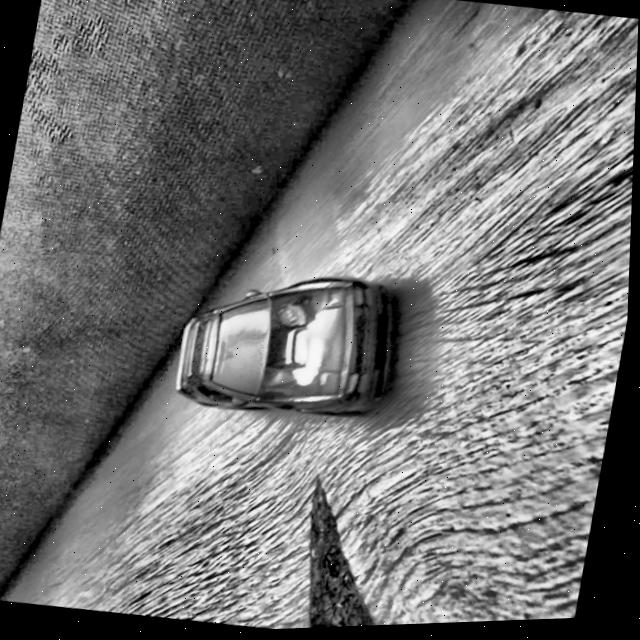car: (171, 257, 412, 435)
